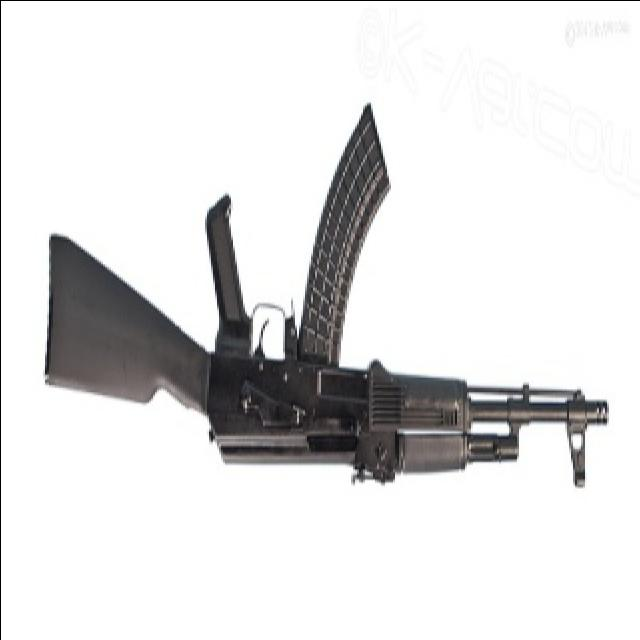rifle: (19, 100, 615, 496)
